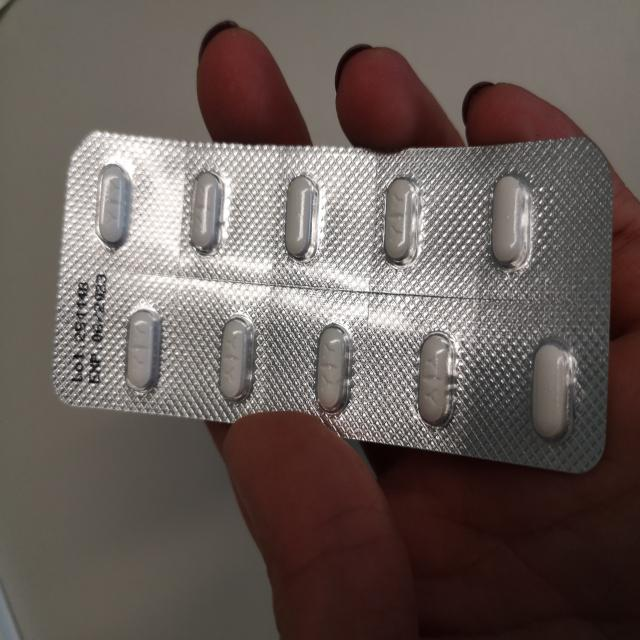Pill: (524, 332, 578, 444), (411, 326, 461, 434), (483, 169, 533, 272), (311, 316, 355, 419), (90, 152, 134, 254), (121, 302, 166, 400), (183, 165, 227, 264), (378, 170, 422, 269), (213, 309, 257, 407), (280, 168, 319, 266)
